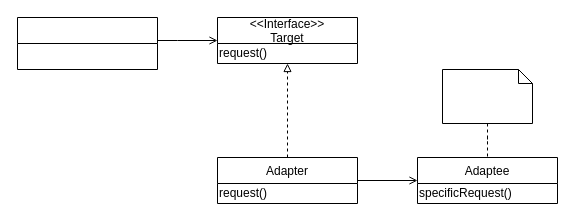
Image size: 575x221. Some labels were removed from this diagram. The shapes that lost their labels are listed below. From the top down, each one's centre as x and y in pixels, then its label:
pixel 87 43: Client
pixel 487 96: 被适配者的所有子类都可以使用该适配器
